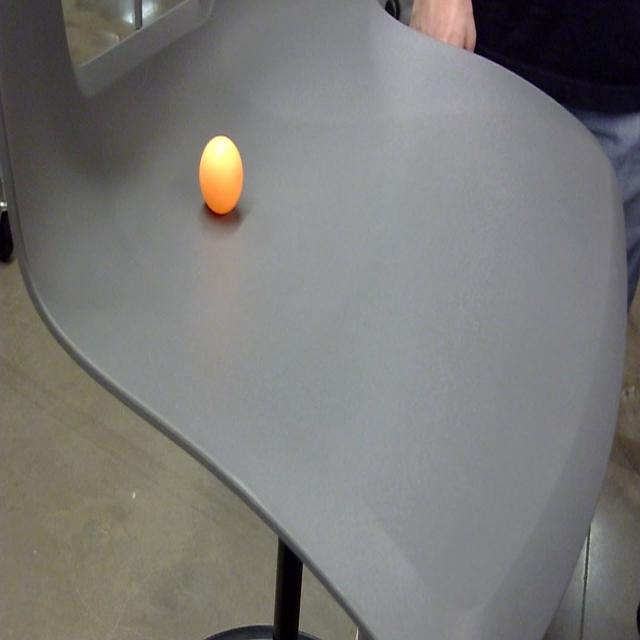ball: (197, 132, 246, 218)
